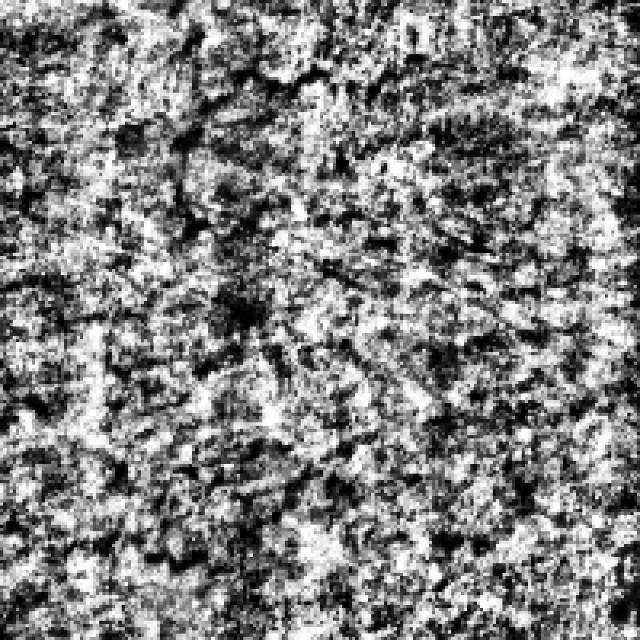Pitted_Surface: (150, 32, 429, 243), (70, 422, 330, 573)
